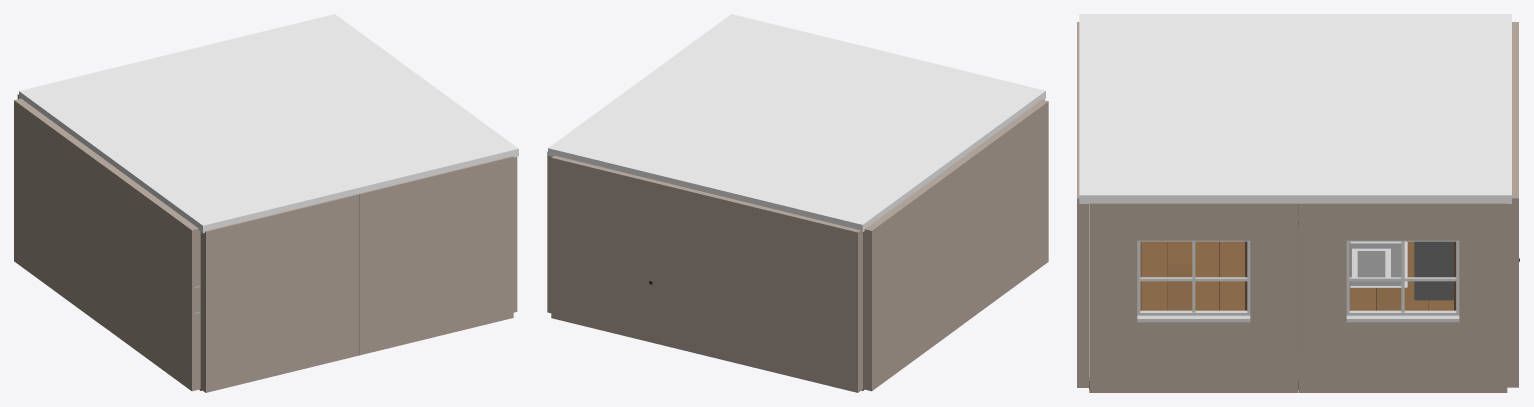
3 renders of one model, left to right at view 1: azimuth 30°, elevation 25°; view 2: azimuth 150°, elevation 25°; view 3: azimuth 270°, elevation 25°, orthographic. The views are drawn at different scales.
Visible parts, largest first — view 1: Roof_00, Wall_03, Wall_04, Wall_01, Wall_02, Wall_05; view 2: Roof_00, Wall_07, Wall_08, Wall_02, Wall_01, Wall_06; view 3: Roof_00, Wall_05, Wall_06, Floor_00, Wall_08, Wall_04, Carpet_00, Sofa_00, Floor_02, Floor_03, Floor_01, Wall_07.
Part boxes in pixels (x1,y1,x2,y2): Roof_00: (19, 14, 518, 233); Wall_03: (200, 193, 359, 392); Wall_04: (359, 156, 513, 355); Wall_01: (103, 163, 200, 391); Wall_02: (14, 98, 109, 325); Wall_05: (513, 157, 517, 312); Roof_00: (548, 14, 1045, 232); Wall_07: (704, 193, 862, 392); Wall_08: (551, 155, 706, 355); Wall_02: (863, 164, 960, 391); Wall_01: (953, 99, 1048, 325); Wall_06: (547, 151, 552, 313); Roof_00: (1079, 14, 1511, 203); Wall_05: (1089, 202, 1298, 392); Wall_06: (1298, 202, 1507, 392); Floor_00: (1141, 241, 1244, 292); Wall_08: (1507, 110, 1518, 387); Wall_04: (1077, 110, 1089, 387); Carpet_00: (1350, 241, 1407, 287); Sofa_00: (1414, 241, 1453, 300); Floor_02: (1089, 292, 1244, 389); Floor_03: (1298, 292, 1453, 389); Floor_01: (1298, 225, 1414, 292); Wall_07: (1512, 22, 1518, 109).
Bounding box in the file's own units: 53347 × 26179 × 52998.
9 materials, 9 textured.
